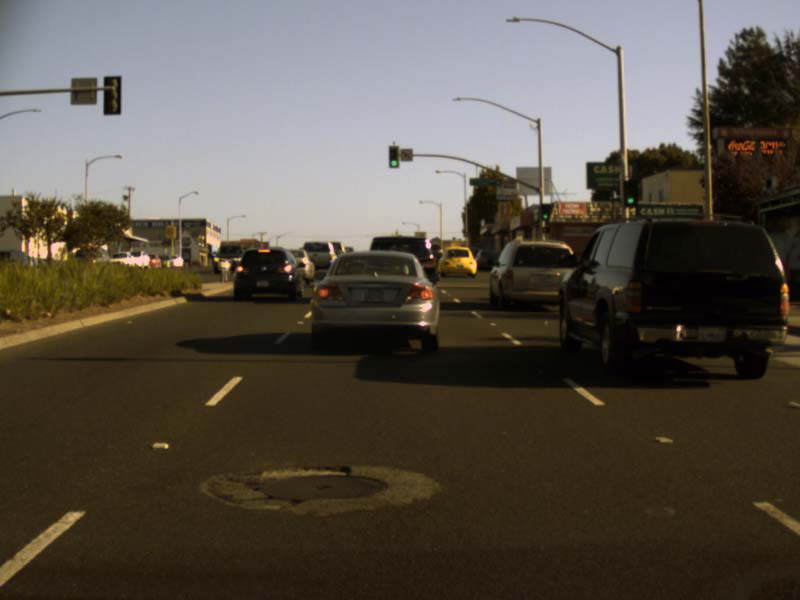Green: (622, 180, 637, 206), (388, 145, 398, 166), (541, 205, 549, 221)
